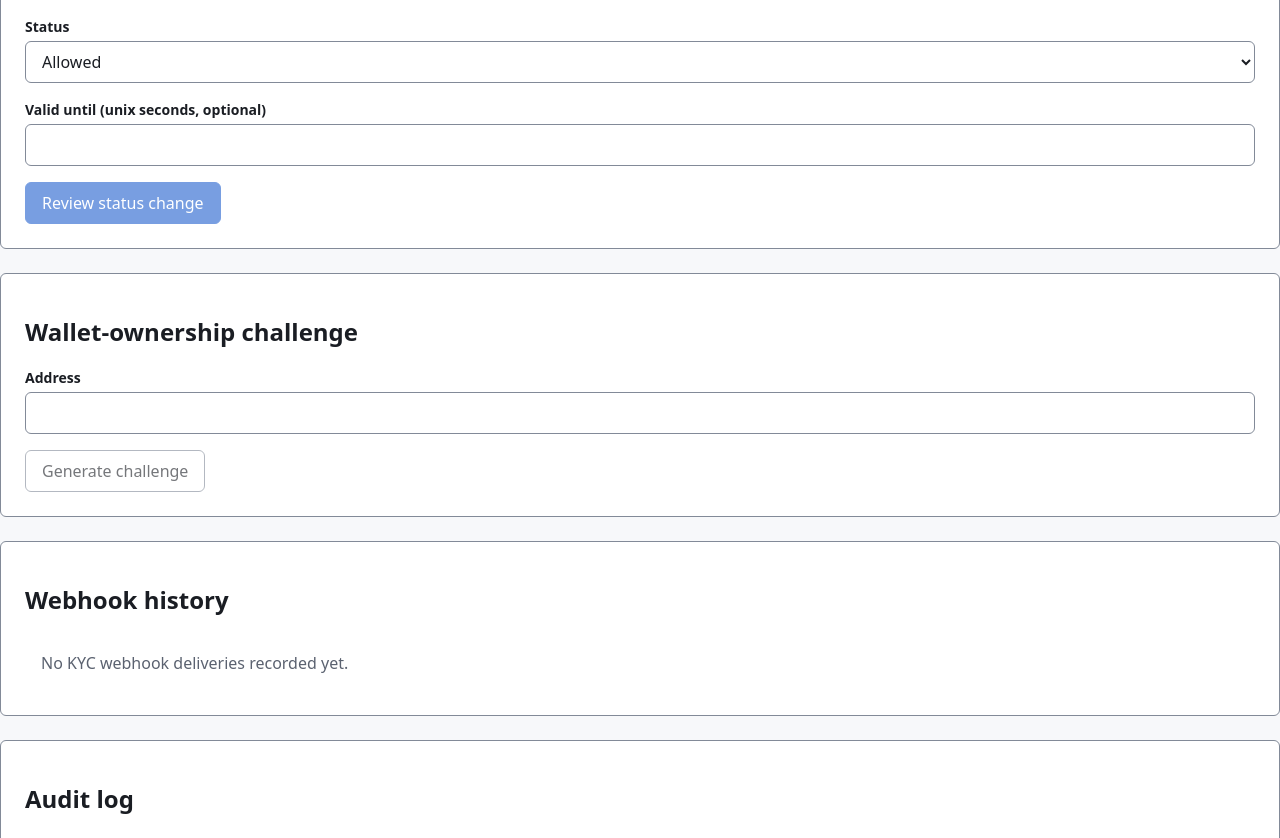
Scenario: Compliance ownership challenge › shows the server's message when the challenge fails and no challenge details
(page scrolled)
Type "nope" into the field labelled "Address" below "Wallet-ownership challenge" at (640, 413), box [25,392,1255,434]
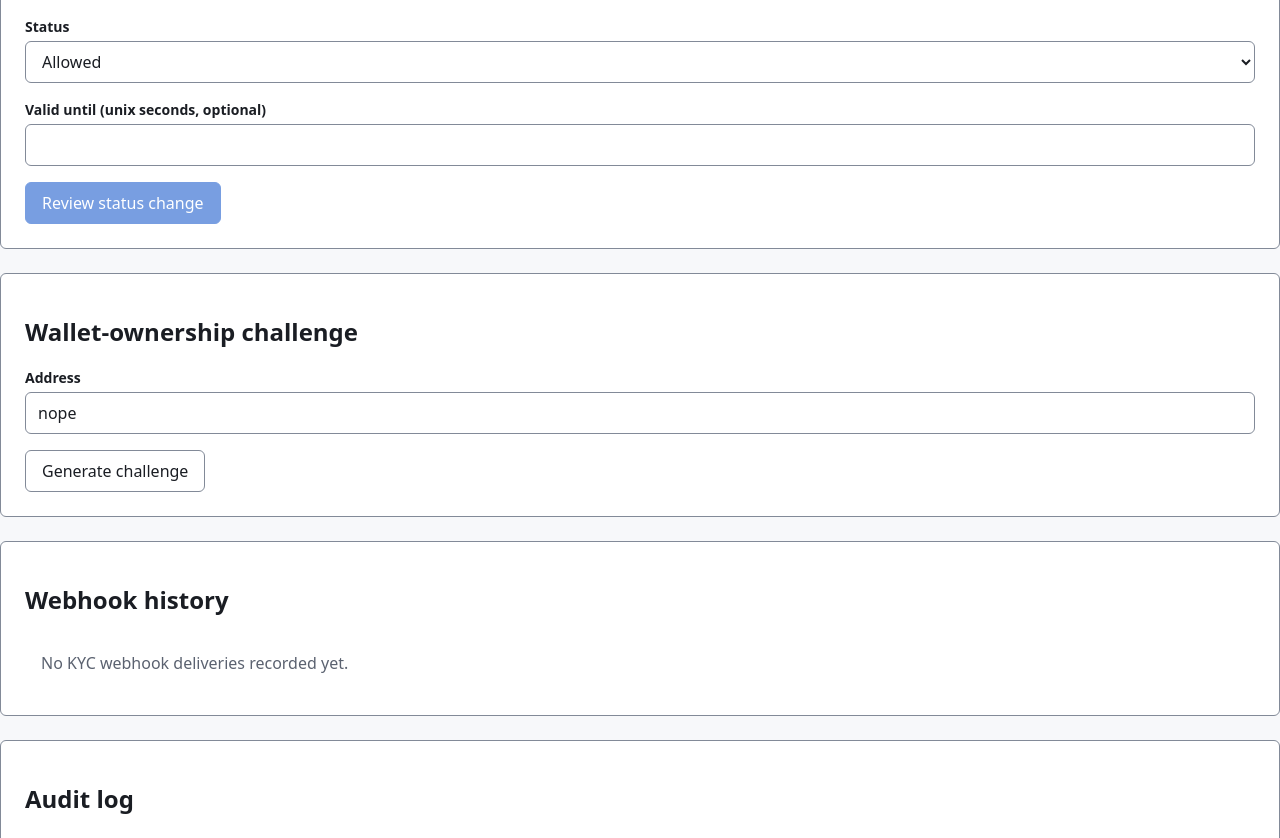
Click the button "Generate challenge" at (115, 471), box [25,450,205,492]
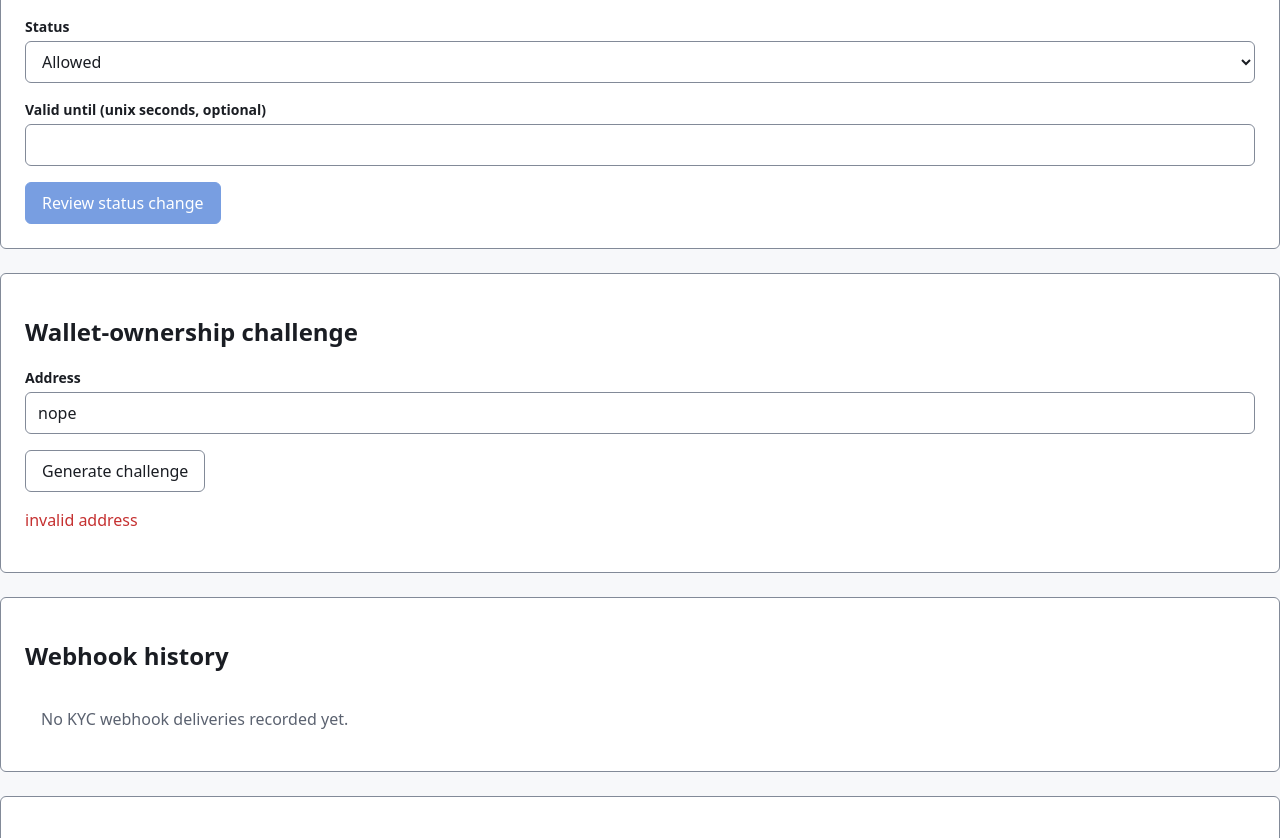
Result: the text "invalid address" is shown at [25,509,138,531]
